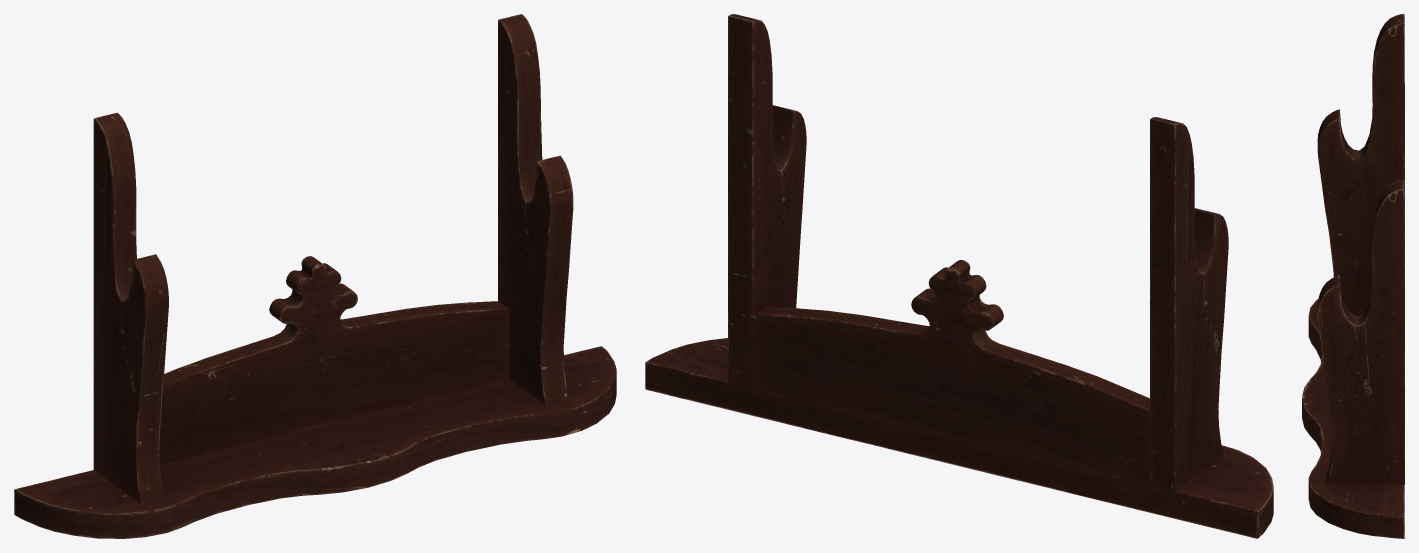
Rendered from katana_stand_01.glb.
The picture shows the model from 3 angles, left to right: view 1: azimuth 30°, elevation 25°; view 2: azimuth 150°, elevation 25°; view 3: azimuth 270°, elevation 25°; orthographic projection. The views are drawn at different scales.
Visible parts, largest first — view 1: katana_stand_01; view 2: katana_stand_01; view 3: katana_stand_01.
Part boxes in pixels (left/top/right/bottom): katana_stand_01: left=14, top=14, right=616, bottom=538; katana_stand_01: left=645, top=14, right=1273, bottom=538; katana_stand_01: left=1302, top=14, right=1404, bottom=538.
Bounding box in the file's own units: 0.2958 × 0.182 × 0.0534.
Materials: 1 (1 with a texture image).
